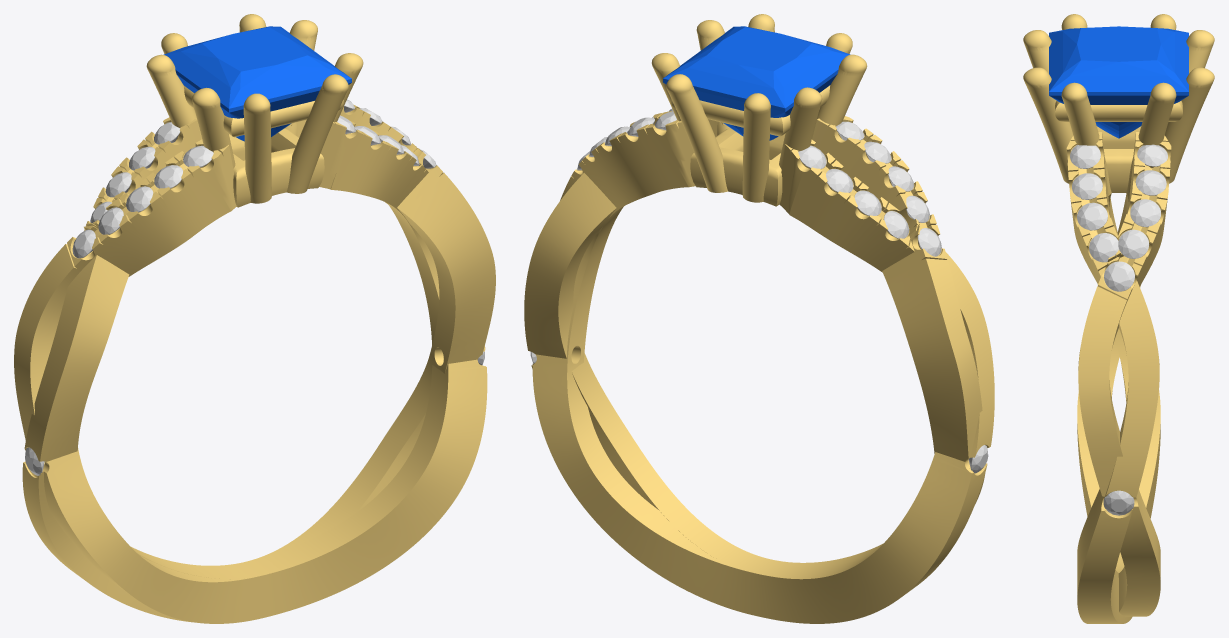
Rendered from bluesapphire-princess-yellowgold-8prong-twist-sidestones.glb.
The picture shows the model from 3 angles, left to right: view 1: azimuth 30°, elevation 25°; view 2: azimuth 150°, elevation 25°; view 3: azimuth 270°, elevation 25°; orthographic projection.
Visible parts, largest first — view 1: metal.001, stone; view 2: metal.001, stone; view 3: metal.001, stone, side.015, side.016, side.017, side.012, side.011, side.013, side.018, side.014, side.010, side.019.
Part boxes in pixels (<box>): metal.001: <box>14,14,495,623</box>; stone: <box>163,26,351,141</box>; metal.001: <box>524,14,994,623</box>; stone: <box>663,26,850,140</box>; metal.001: <box>1023,14,1214,623</box>; stone: <box>1049,26,1188,138</box>; side.015: <box>1104,261,1134,291</box>; side.016: <box>1118,229,1149,258</box>; side.017: <box>1130,199,1160,227</box>; side.012: <box>1077,202,1107,230</box>; side.011: <box>1089,233,1119,262</box>; side.013: <box>1072,173,1102,199</box>; side.018: <box>1135,170,1166,195</box>; side.014: <box>1070,145,1100,168</box>; side.010: <box>1103,490,1134,515</box>; side.019: <box>1137,144,1167,166</box>.
Bounding box in the file's own units: 19.97 × 23.65 × 7.42.
